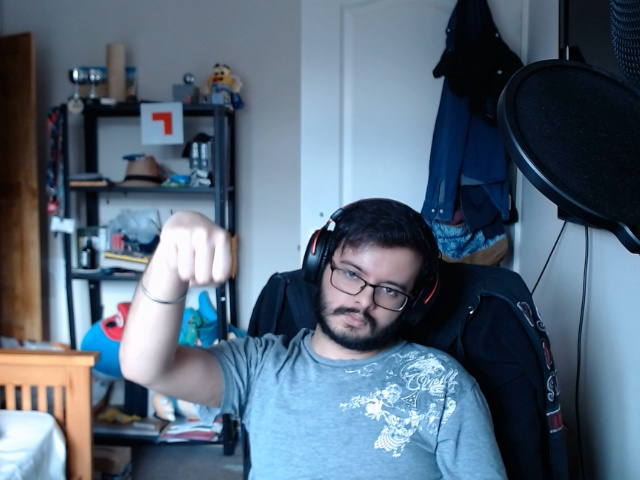Yes: (128, 201, 258, 303)
